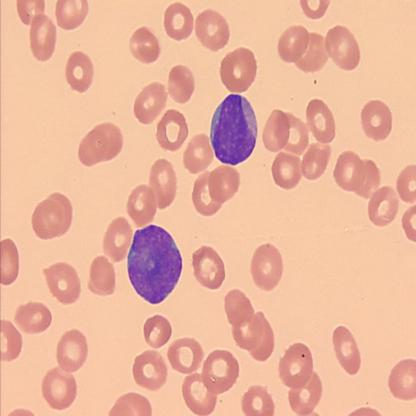Blast: (125, 223, 184, 307), (207, 91, 260, 169)
